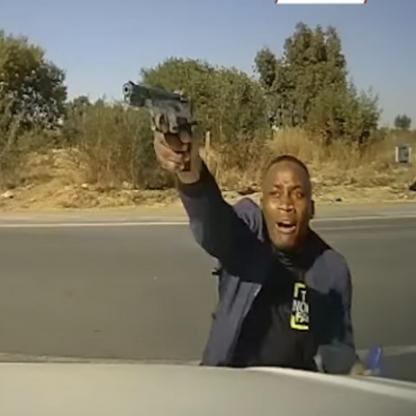criminal: (121, 78, 369, 376)
weapon: (121, 79, 199, 173)
